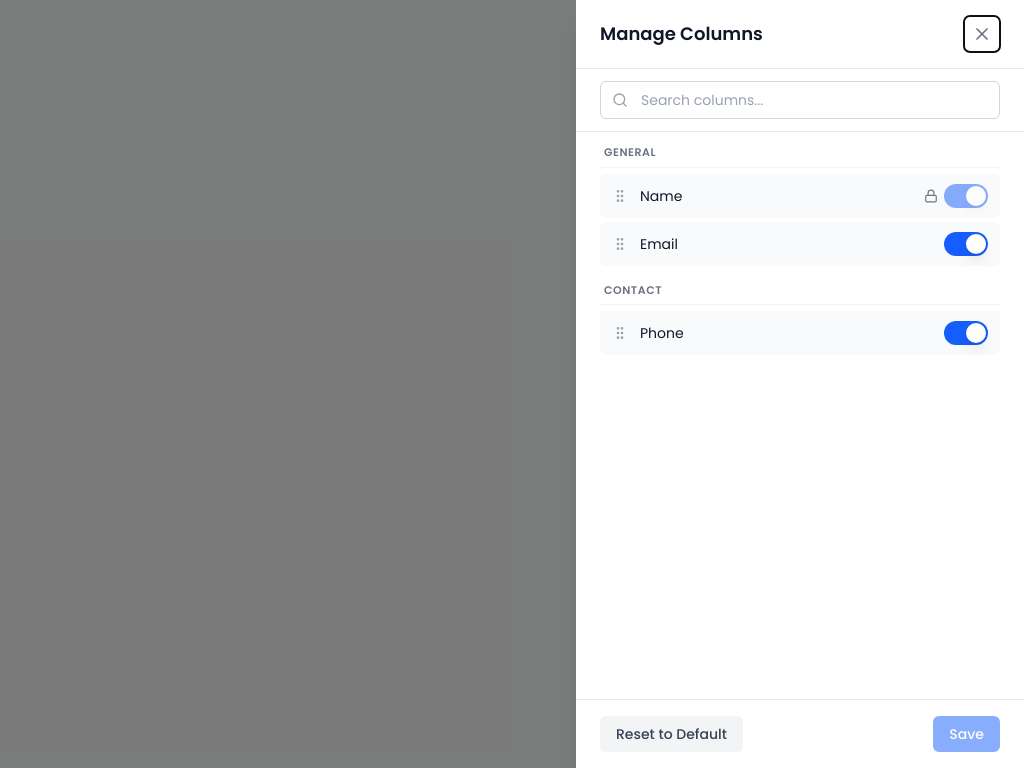
Test: ManageColumnsDrawer — save, retry, and unsaved-changes guard › Requirement 5.3: Inline error with Retry, max 3 attempts › shows inline error with Retry button on save failure
The image size is (1024, 768).
# Create a change
Click the switch named "Toggle Email visibility" at (966, 244), box [944,232,988,256]
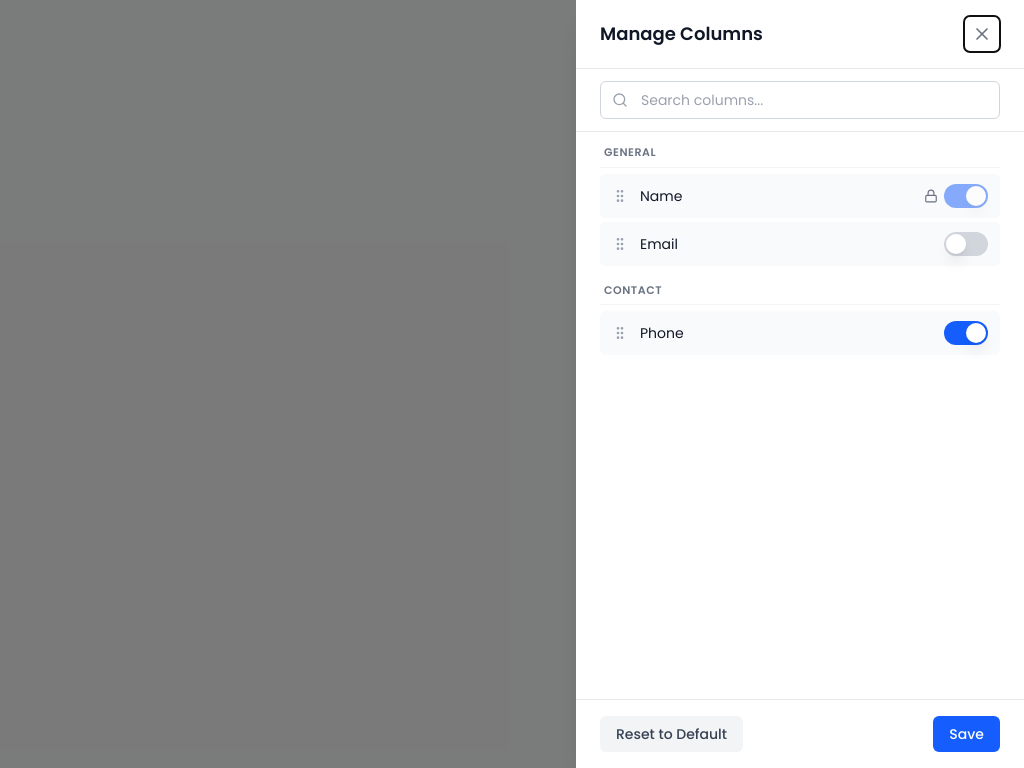
# Click Save — will fail
Click the button "Save" at (967, 734), box [933,716,1000,752]
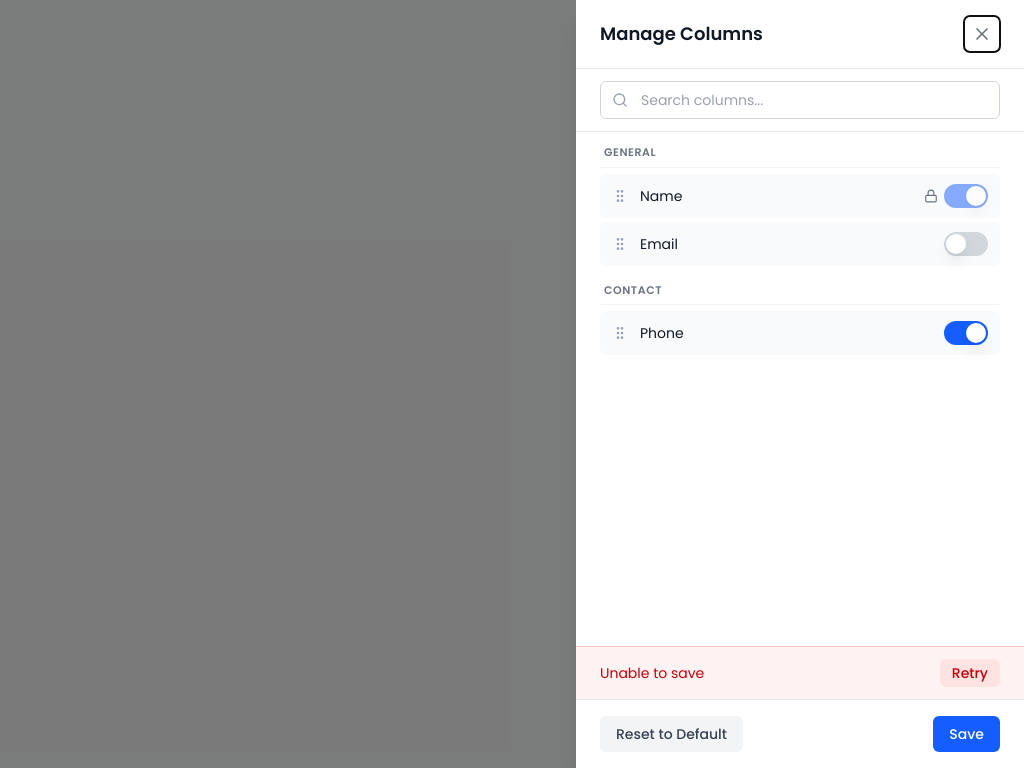
Expected: the text "Unable to save" is shown, [600,663,704,683]
Expected: the button "Retry" is shown, [940,659,1000,687]
